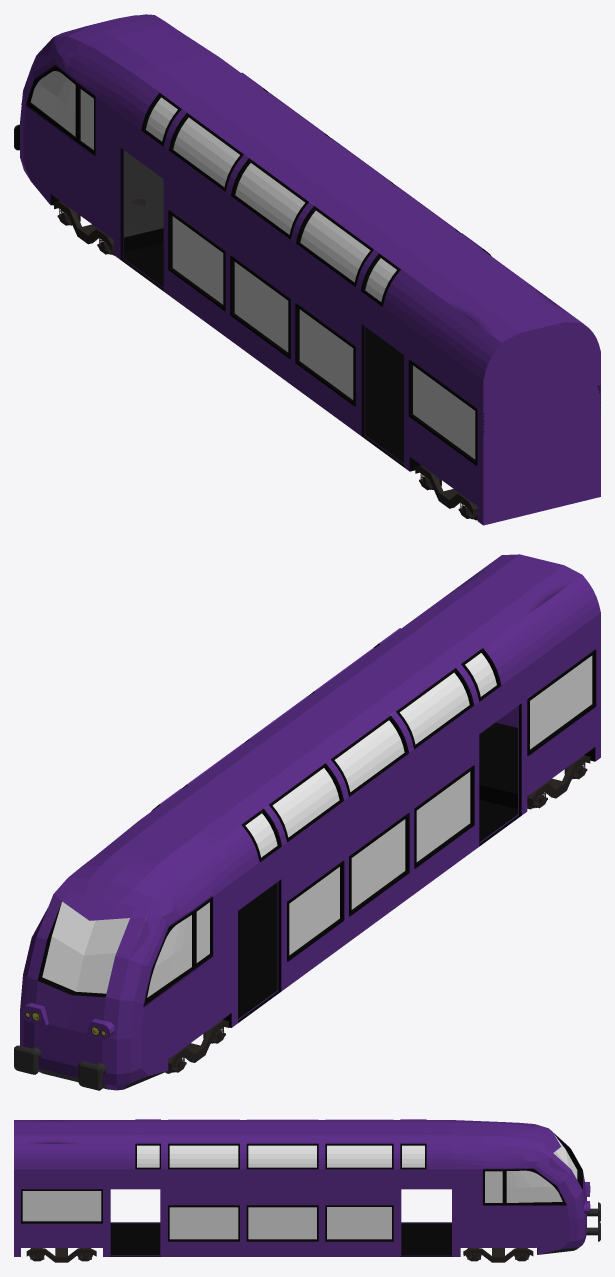
Rendered from trainv4.4.fbx.
The picture shows the model from 3 angles, top to bottom: view 1: azimuth 30°, elevation 25°; view 2: azimuth 150°, elevation 25°; view 3: azimuth 270°, elevation 25°; orthographic projection. The views are drawn at different scales.
Visible parts, largest first — view 1: base, forgoVazBack|vaz|Dupli|4, forgoVazFront|vaz|Dupli|4; view 2: base, forgoVazBack|vaz|Dupli|4, forgoVazFront|vaz|Dupli|4; view 3: base, forgoVazBack|vaz|Dupli|4, forgoVazFront|vaz|Dupli|4.
Boxes of the visible parts, x1,y1,x2,y2 form: base: [14, 14, 600, 525]; forgoVazBack|vaz|Dupli|4: [415, 465, 477, 515]; forgoVazFront|vaz|Dupli|4: [54, 201, 113, 251]; base: [14, 554, 600, 1090]; forgoVazBack|vaz|Dupli|4: [528, 755, 590, 805]; forgoVazFront|vaz|Dupli|4: [168, 1019, 228, 1070]; base: [14, 1119, 600, 1256]; forgoVazBack|vaz|Dupli|4: [26, 1248, 96, 1262]; forgoVazFront|vaz|Dupli|4: [463, 1248, 533, 1262].
Bounding box in the file's own units: 823 × 1258 × 5721.
Materials: 4 (1 with a texture image).
